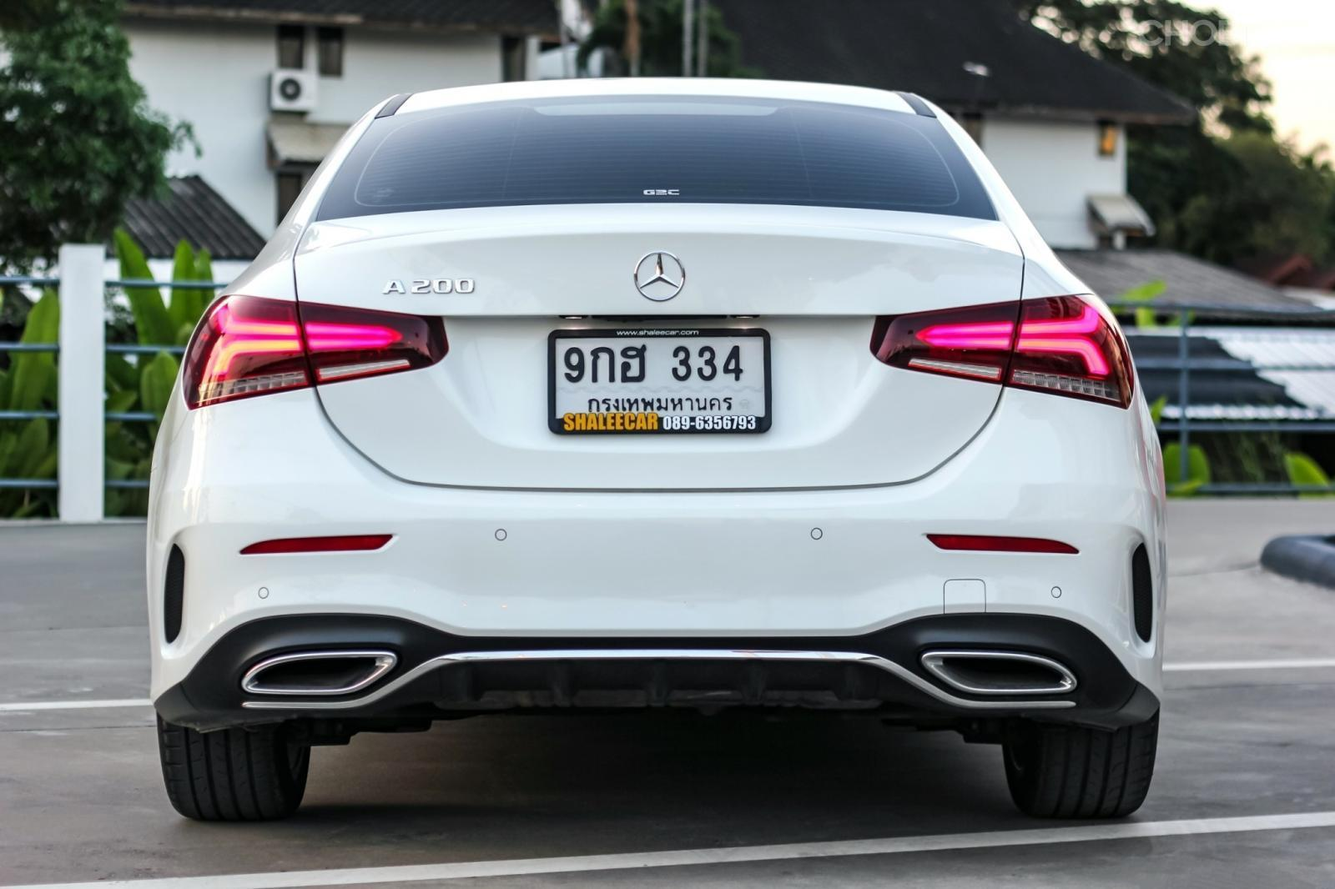license-plate: (547, 325, 776, 435)
